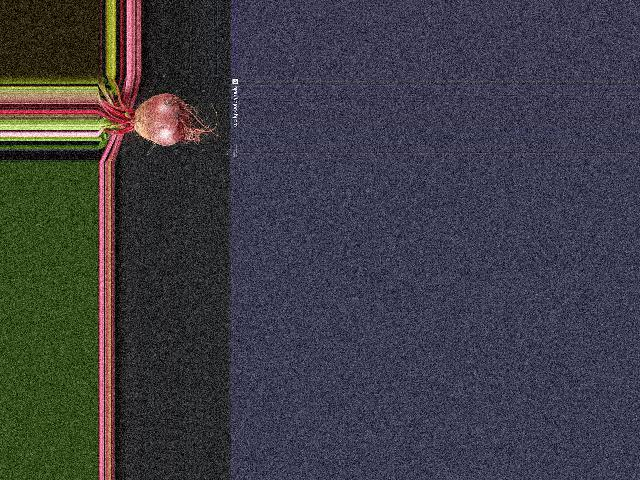beet: (98, 75, 223, 146)
